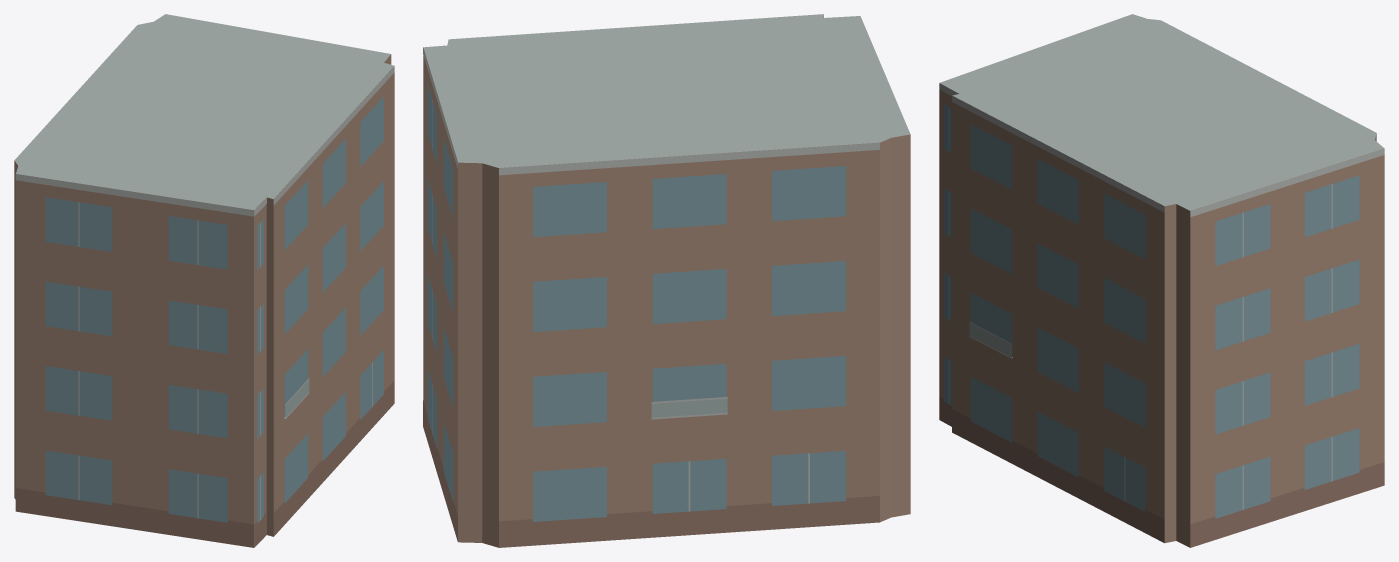
Rendered from survey-upis-32631961.glb.
3 renders of one model, left to right at view 1: azimuth 30°, elevation 25°; view 2: azimuth 150°, elevation 25°; view 3: azimuth 270°, elevation 25°, orthographic. The views are drawn at different scales.
Parts seen in each view (by area): view 1: survey-upis-32631961.tmp; view 2: survey-upis-32631961.tmp; view 3: survey-upis-32631961.tmp.
Part boxes in pixels (x1,y1,x2,y2): survey-upis-32631961.tmp: (14,14,394,547); survey-upis-32631961.tmp: (423,14,910,547); survey-upis-32631961.tmp: (939,14,1384,547).
Bounding box in the file's own units: 16.05 × 12.8 × 15.34.
